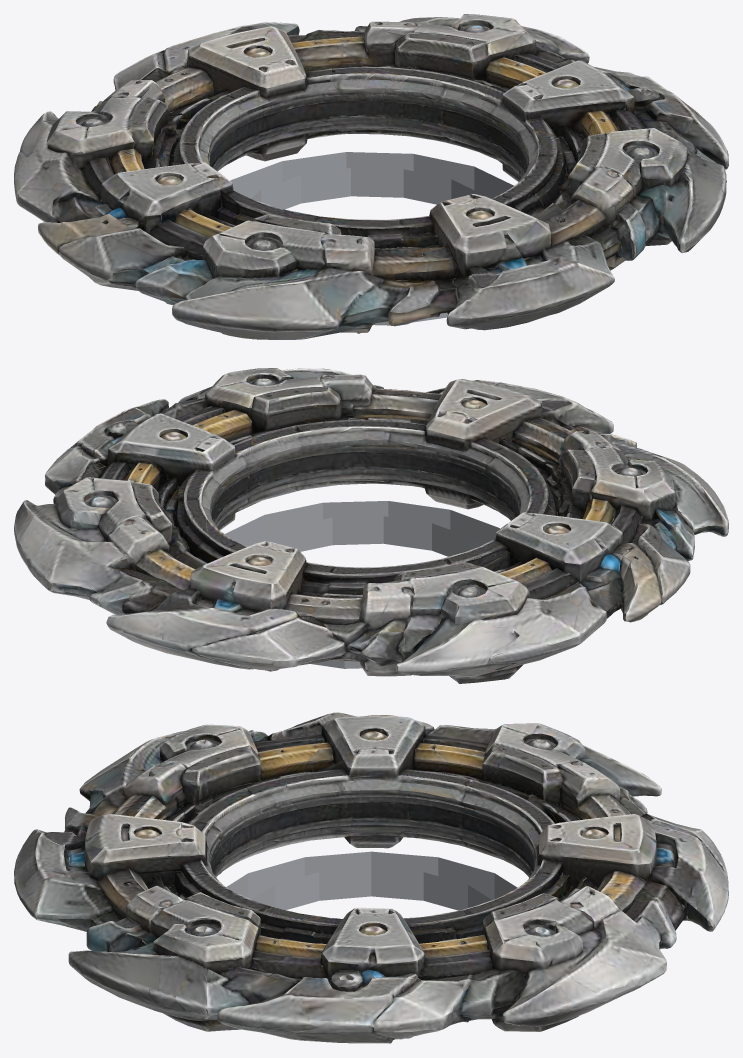
Rendered from wheel.glb.
3 renders of one model, top to bottom at view 1: azimuth 30°, elevation 25°; view 2: azimuth 150°, elevation 25°; view 3: azimuth 270°, elevation 25°, orthographic. The views are drawn at different scales.
Visible parts, largest first — view 1: mesh_node; view 2: mesh_node; view 3: mesh_node.
Part boxes in pixels (<box>): mesh_node: <box>14,14,728,339</box>; mesh_node: <box>14,368,728,683</box>; mesh_node: <box>14,712,728,1043</box>.
Bounding box in the file's own units: 45.28 × 8.62 × 45.12.
2 materials, 1 textured.
